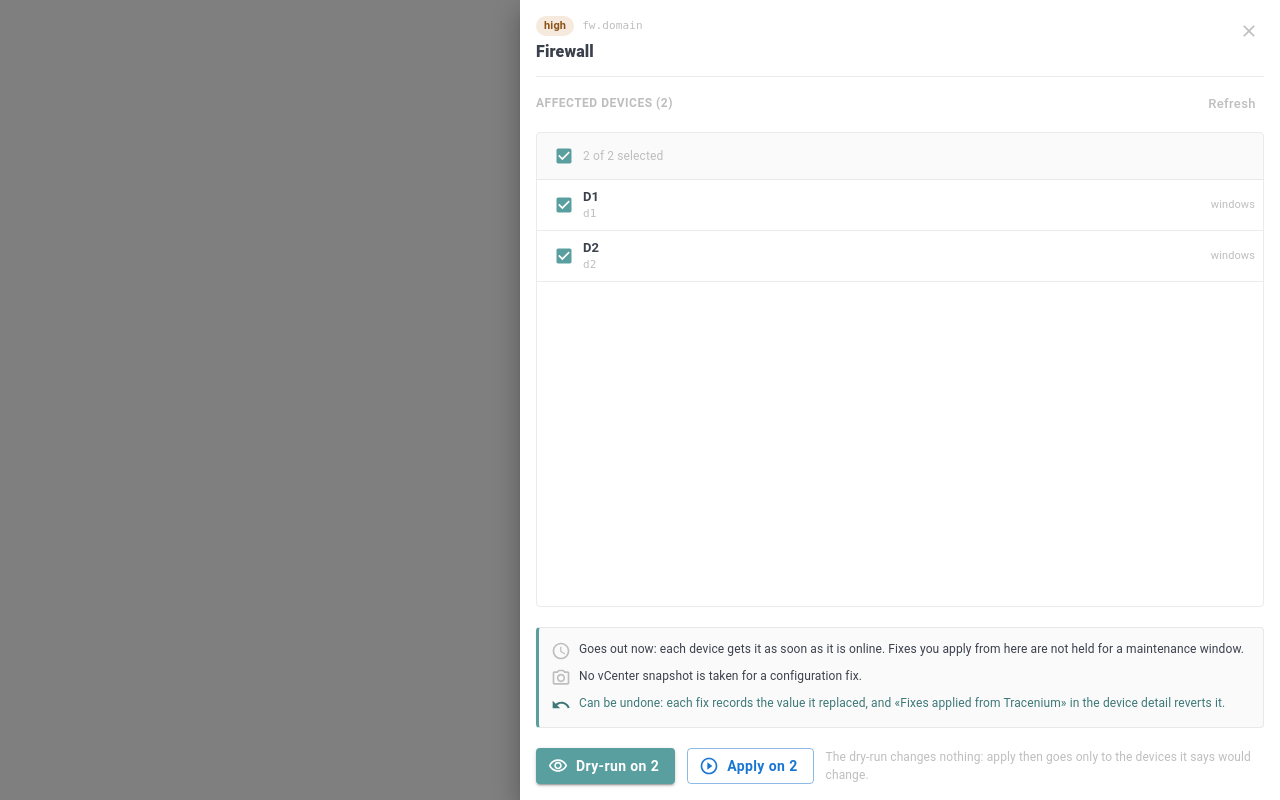
Test: requisito que se puede instalar — «¿instalo auditd y sigo?» › libpam-pwquality: el aviso dice por qué y qué cambia en PAM antes de «Install … and apply»
This screenshot has width=1280, height=800.
Click the button "Apply on 2".
click(750, 766)  # box [687,748,814,784]
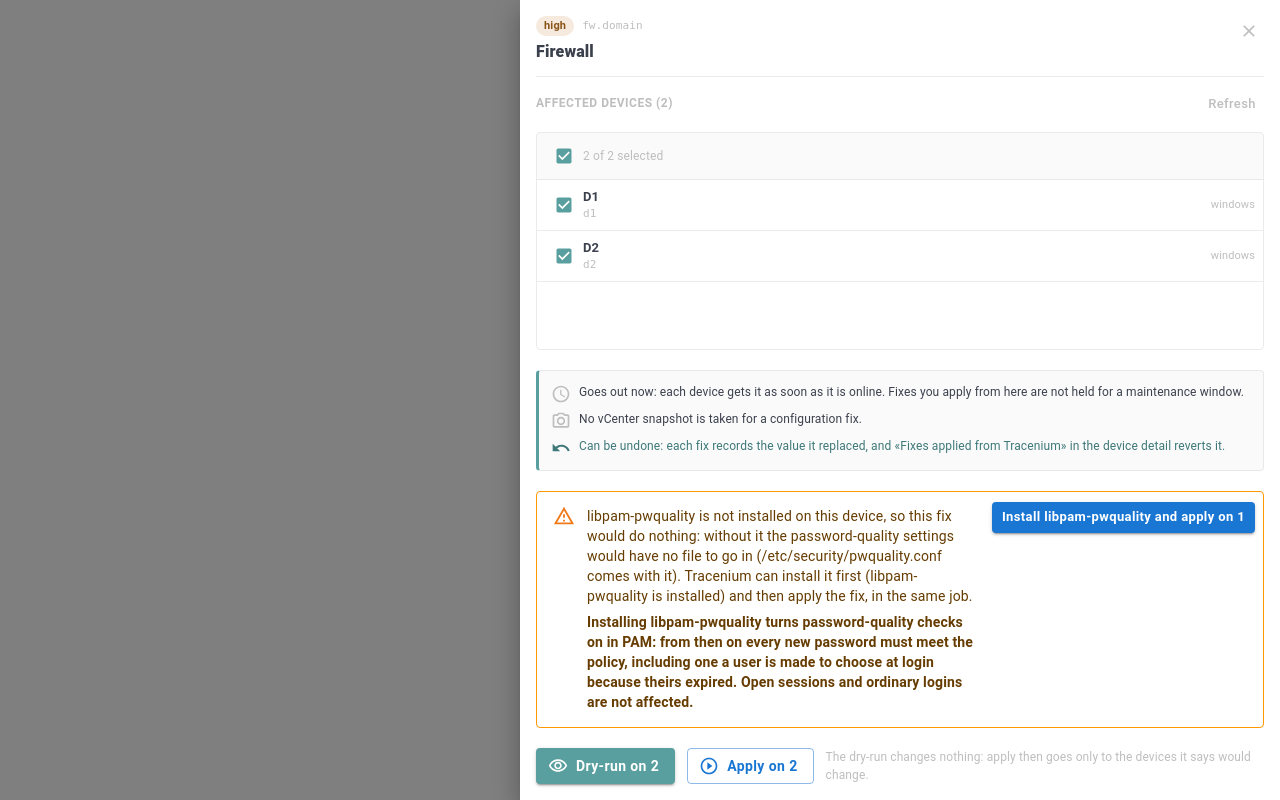
Now the message with test id "prerequisite-offer" shows "libpam-pwquality is not installed on this device, so this fix would do nothing: without it the password-quality settings", box [587,508,973,604]
Now the text with test id "prerequisite-notice" shows "every new password must meet the policy", box [587,614,973,710]
Now the button "Install libpam-pwquality and apply on 1" is shown, box [992,502,1255,533]
